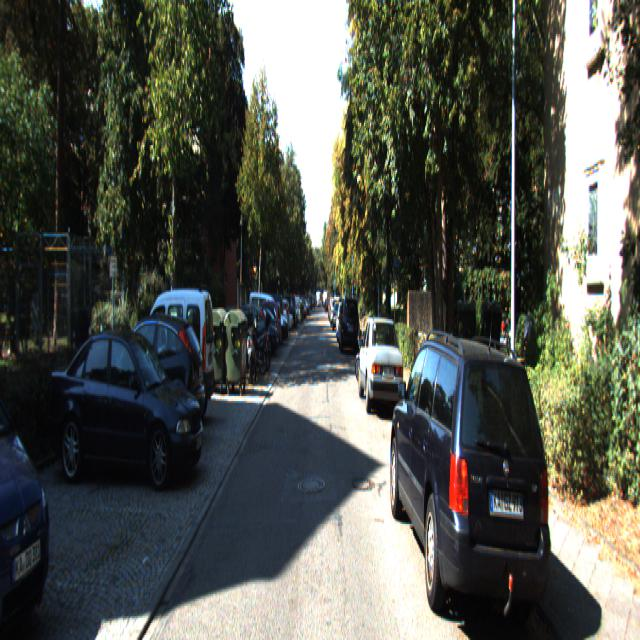Car: (389, 324, 557, 638), (49, 322, 206, 492), (0, 307, 64, 639), (95, 304, 207, 450), (130, 286, 215, 421), (356, 314, 406, 418), (222, 302, 267, 362), (337, 294, 359, 356)
